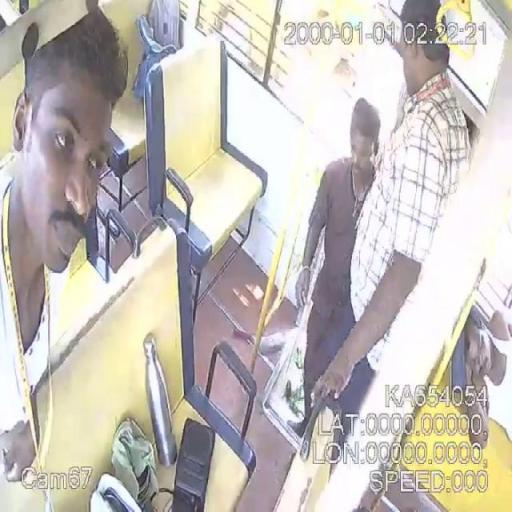persona: (311, 0, 472, 448), (0, 5, 130, 496), (288, 96, 384, 439)
